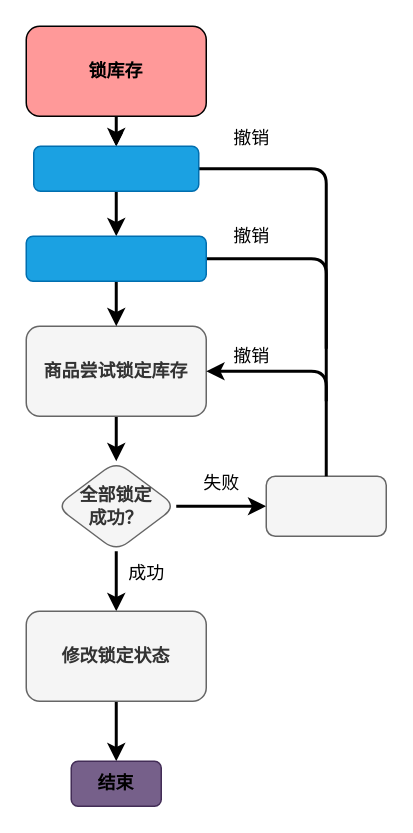
The diagram is 413 pixels wide and 833 high, and some of its shapes have lost their labels. Here are the shapes that lost their labels. From the top down, the centre of each, then its label:
(x=115, y=168): 保存库存工作单
(x=115, y=258): 保存库存工作单详情
(x=325, y=505): 全部回滚
